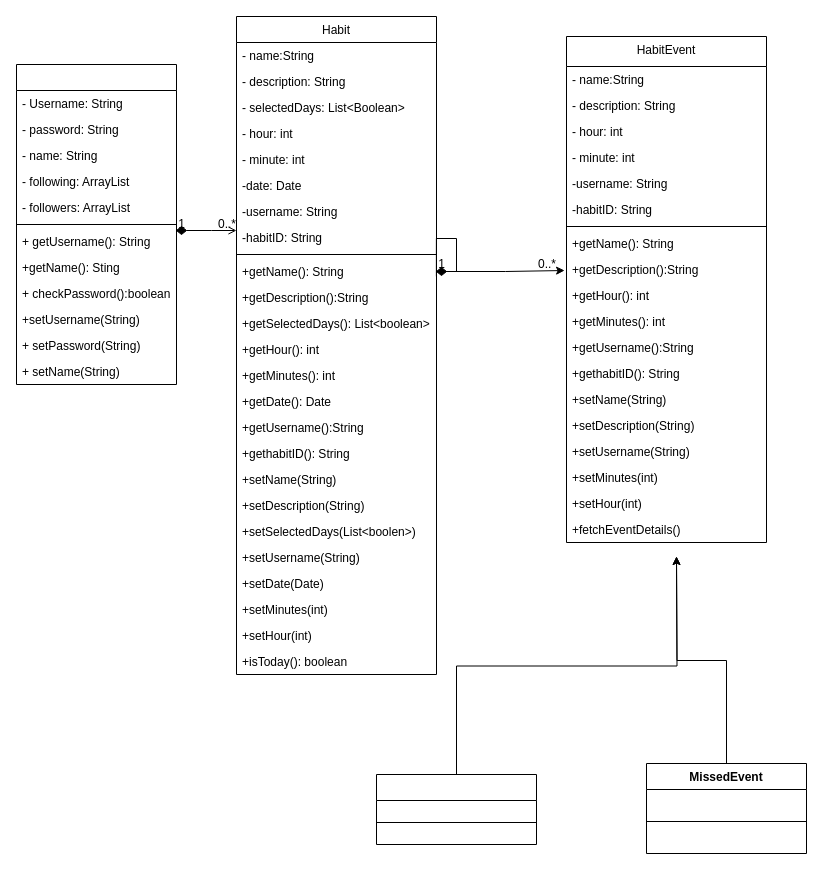
The diagram is 823 pixels wide and 870 high, and some of its shapes have lost their labels. Each missing label, with the box of its shape:
CompletedEvent: (376, 774, 536, 844)
Profile: (16, 64, 176, 384)
